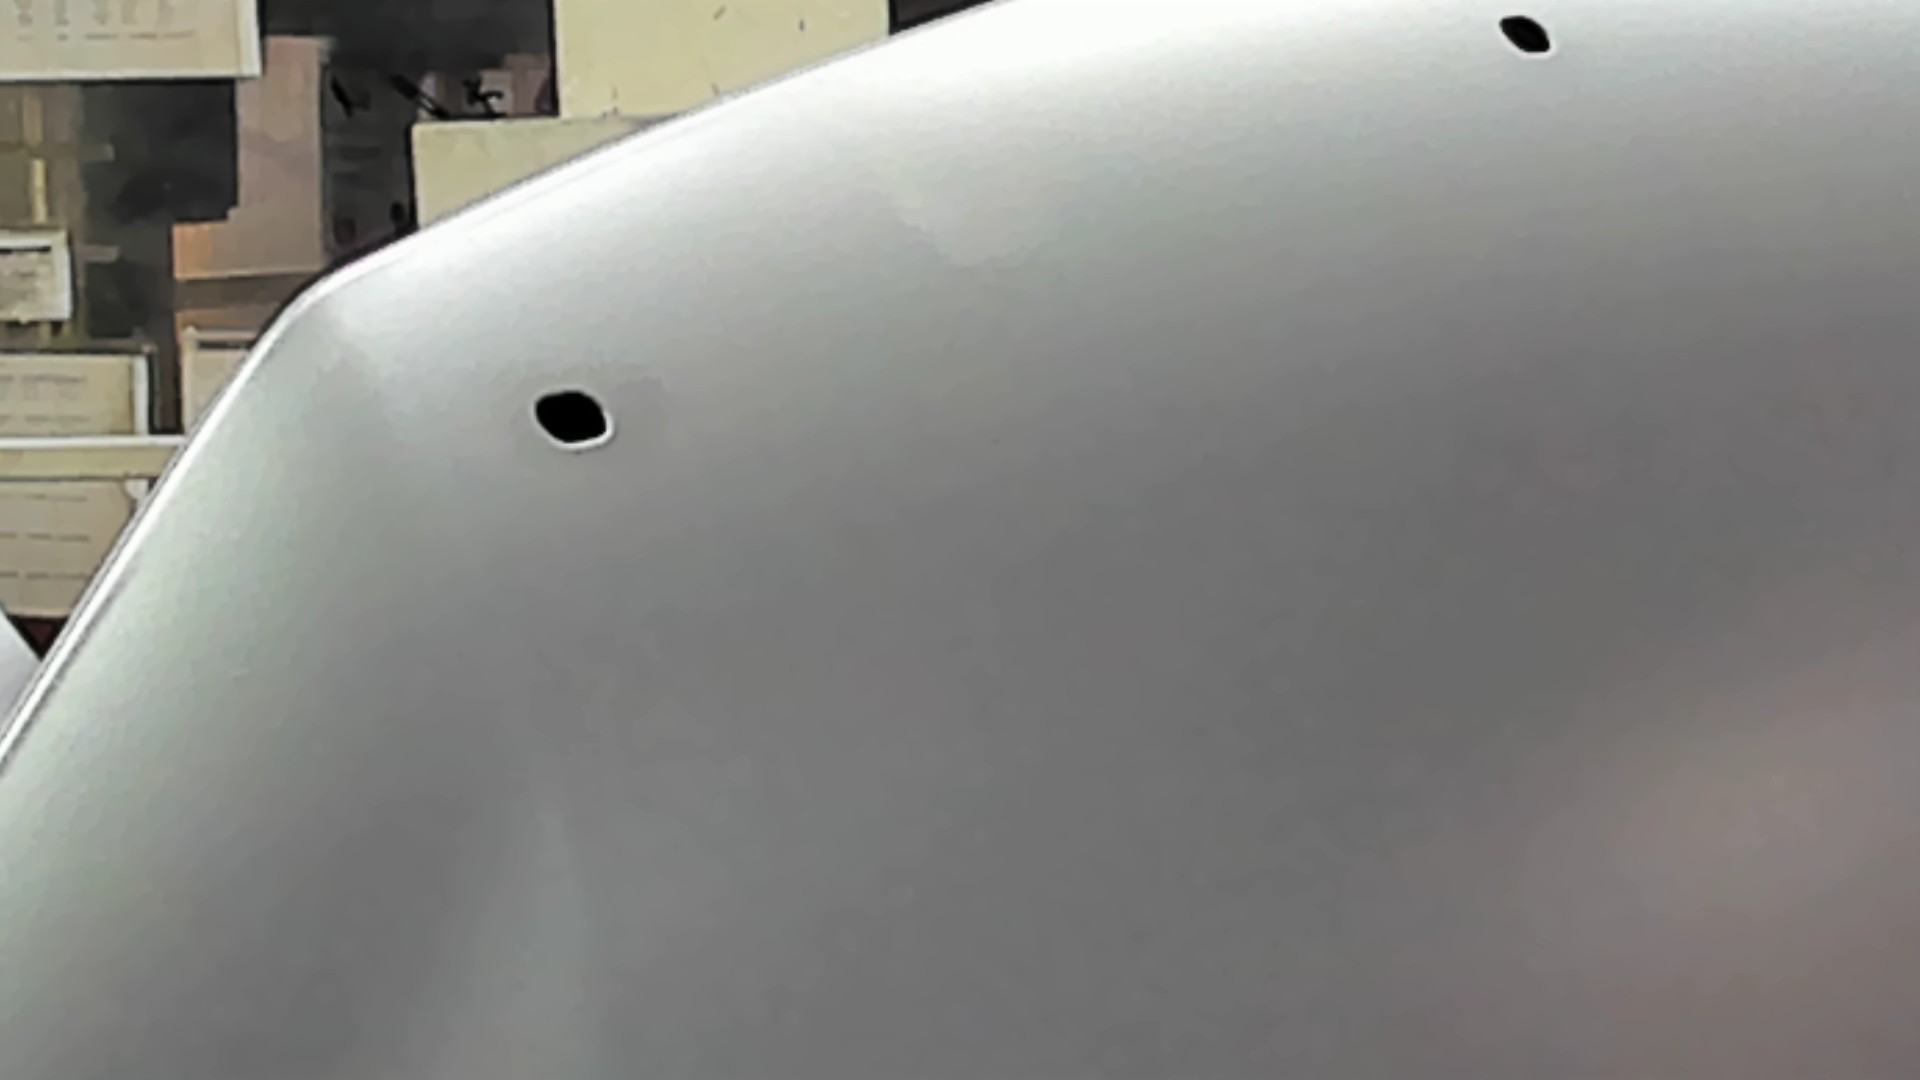amorfo: (524, 385, 618, 454), (1491, 11, 1560, 61)
capo: (745, 128, 1920, 1080)
